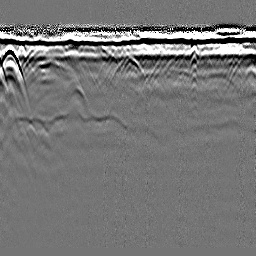cavity: (114, 51, 143, 75)
